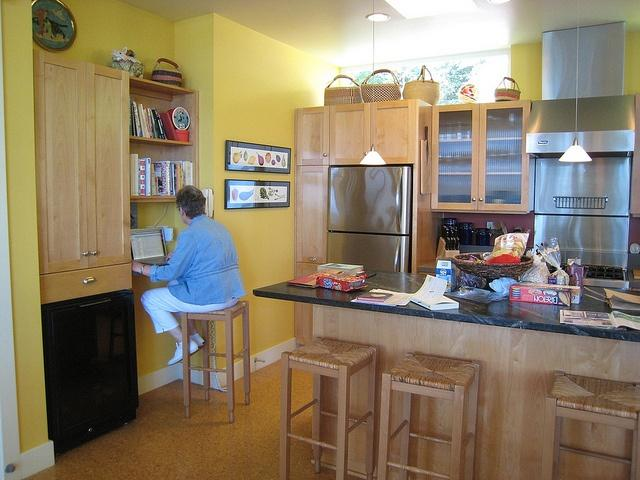Lemari: (32, 48, 129, 275), (430, 99, 530, 214)
Rak: (128, 76, 200, 202)
